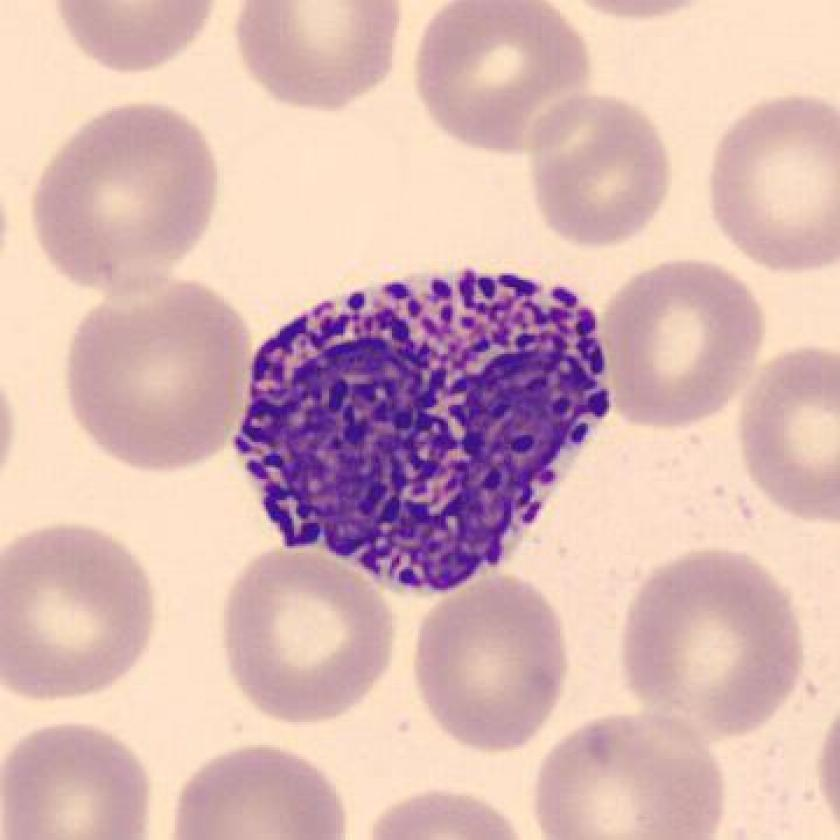basophil: (241, 270, 610, 594)
